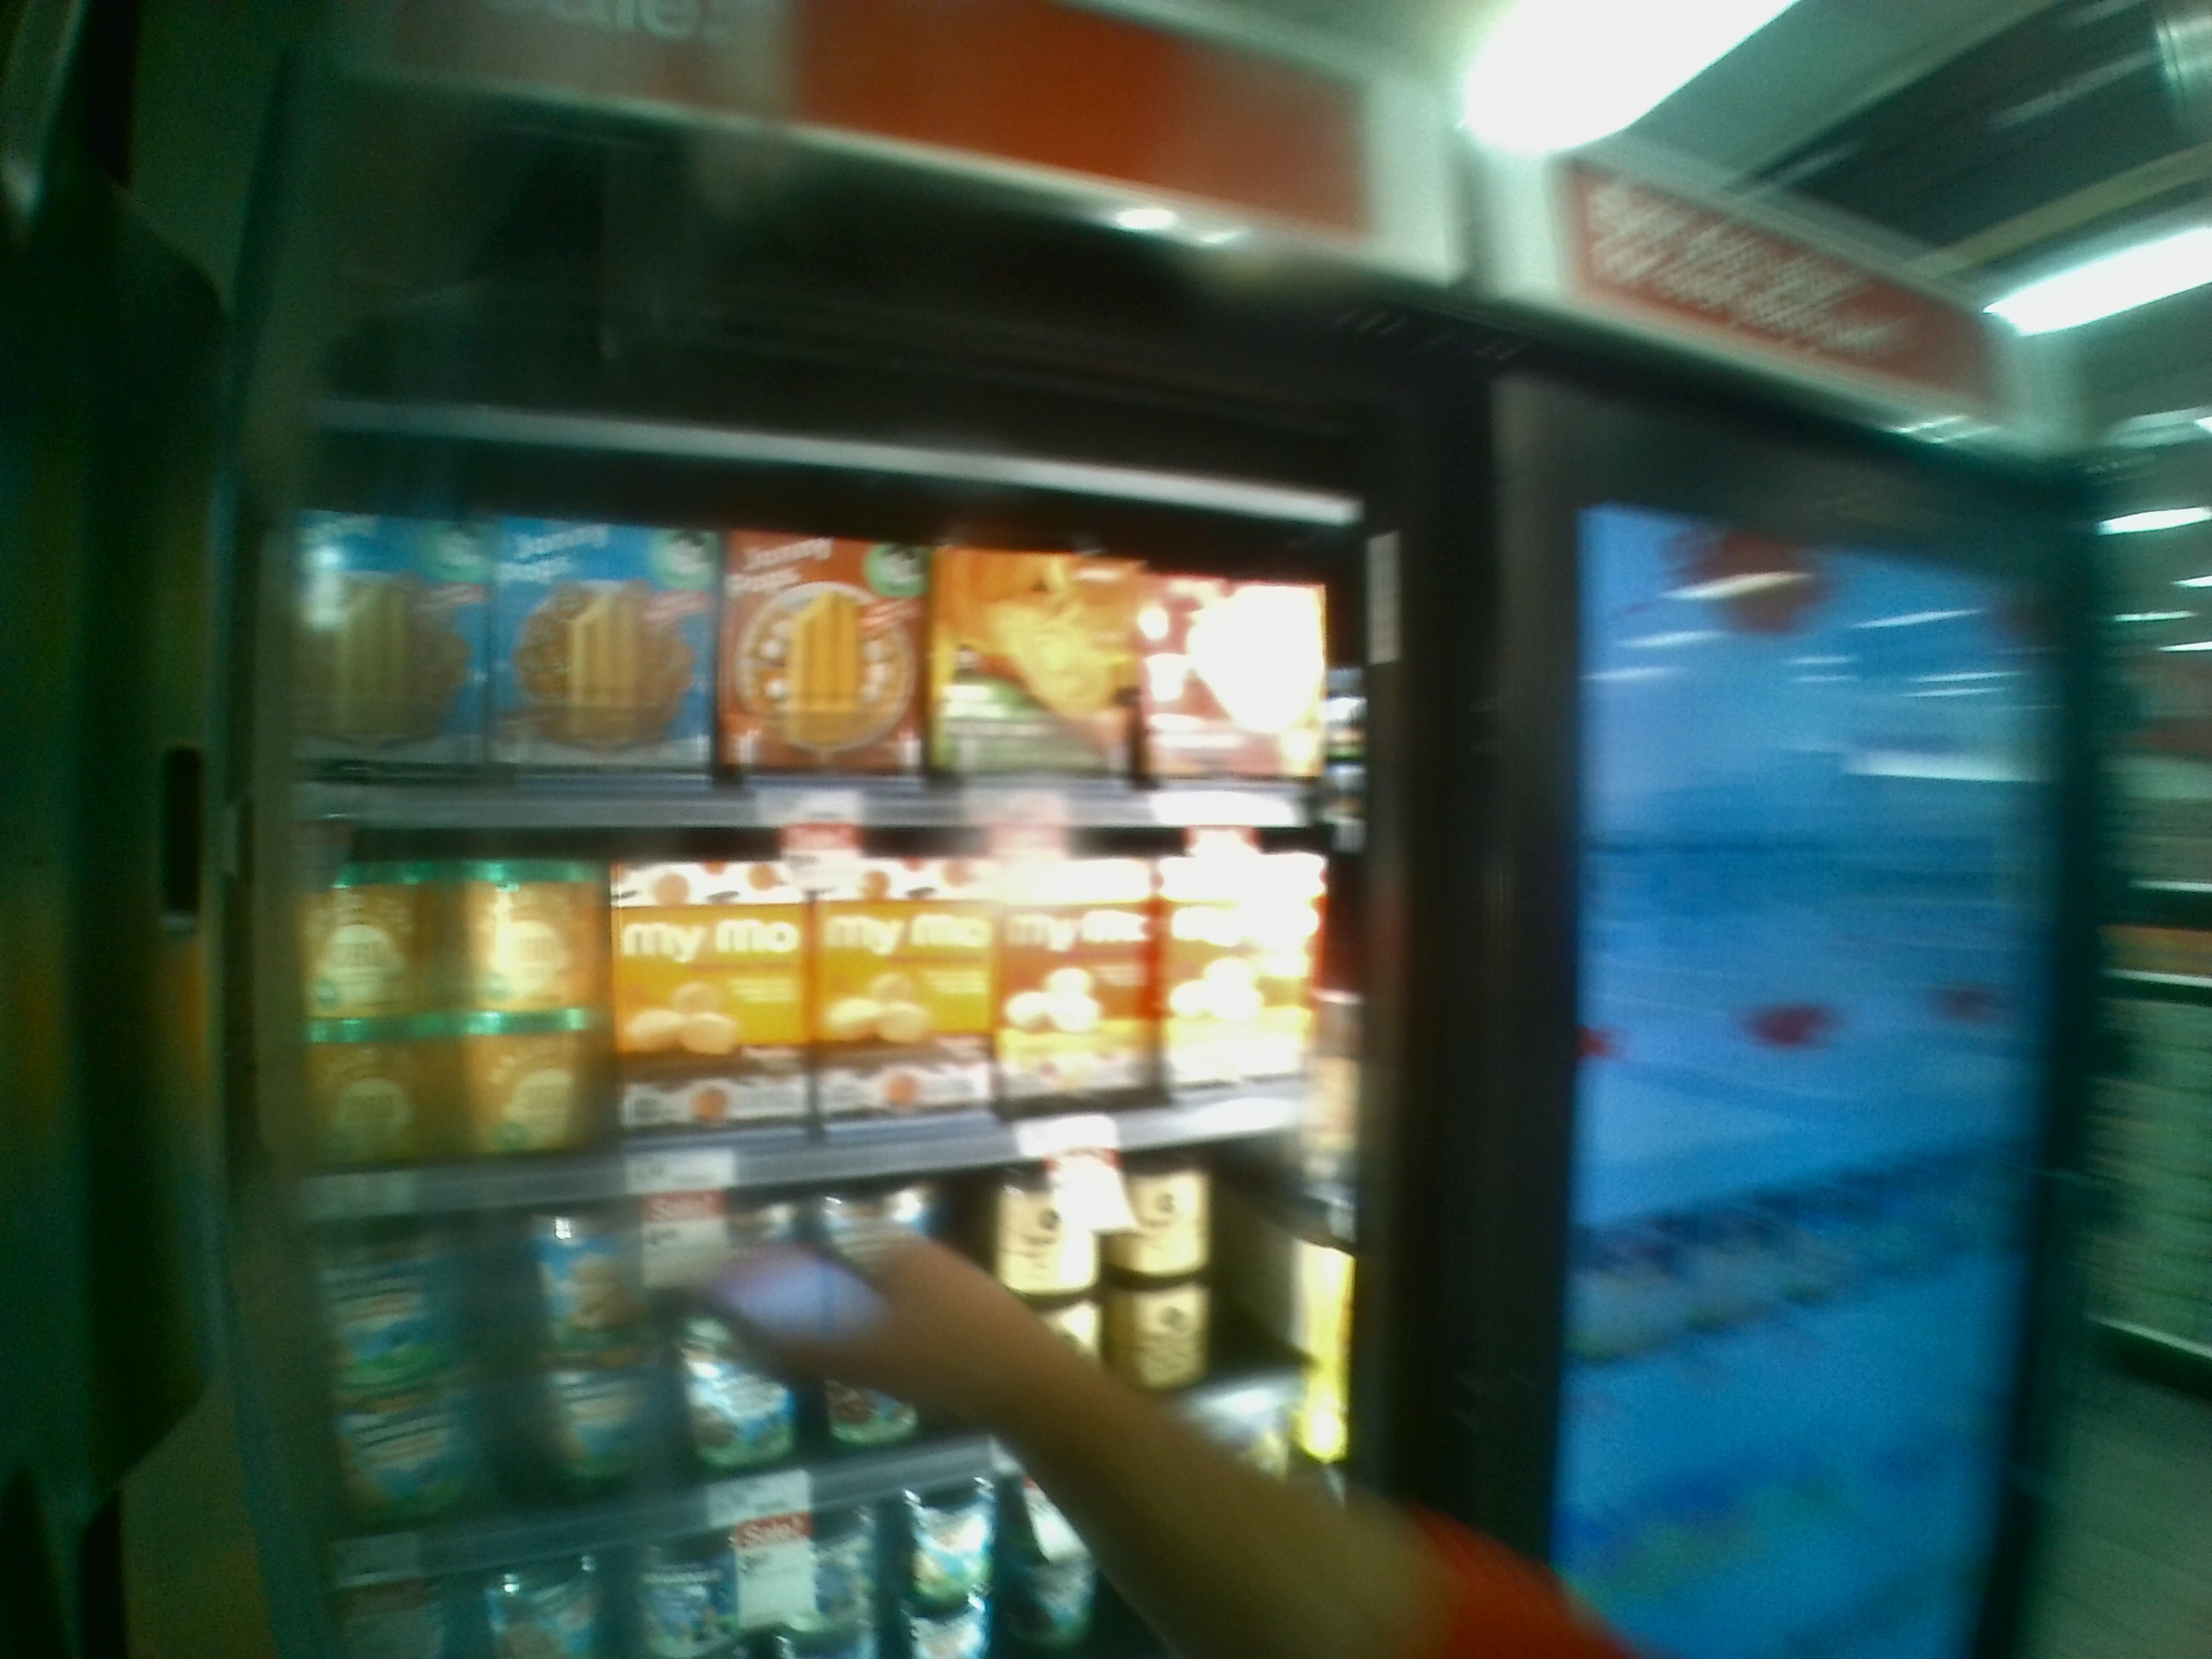shelf: (244, 803, 1379, 1180), (268, 439, 1374, 809)
